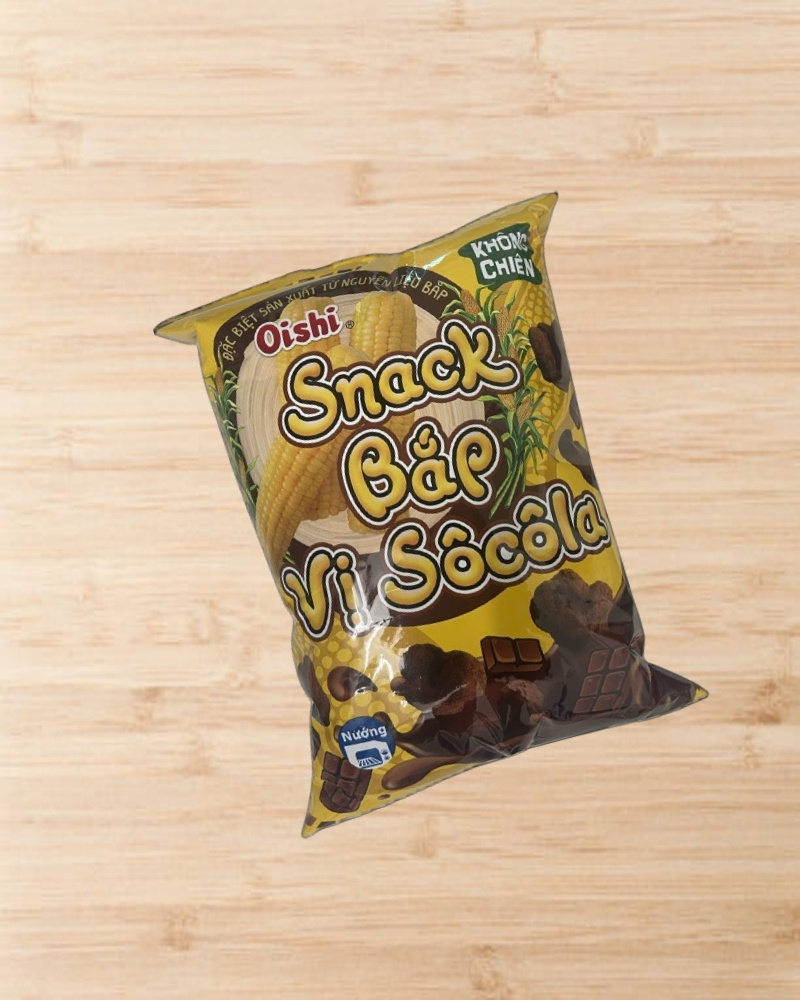Snack socola: (149, 190, 716, 830)
